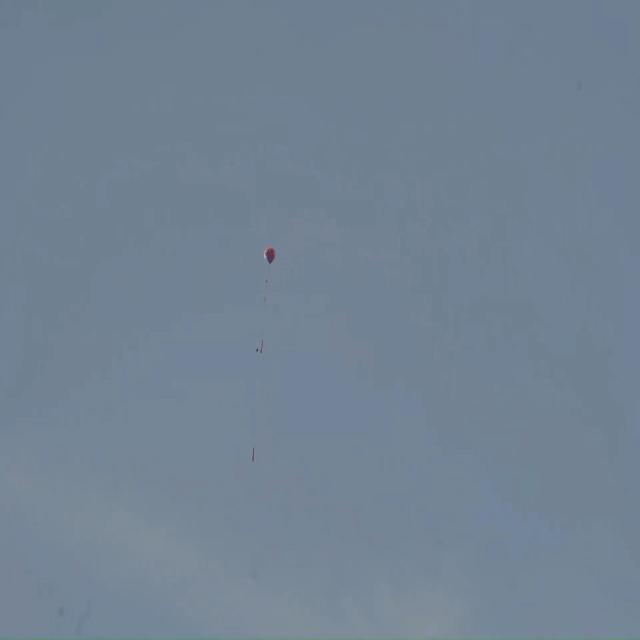Rocket: (252, 448, 255, 462)
